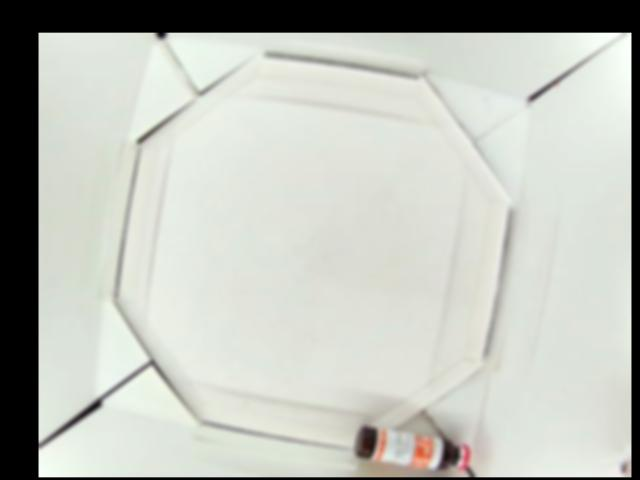Medicine: (355, 421, 472, 471)
